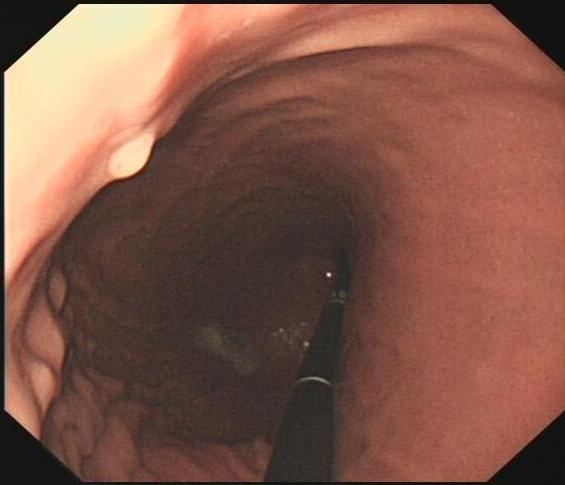Polyp: (95, 117, 163, 197)
